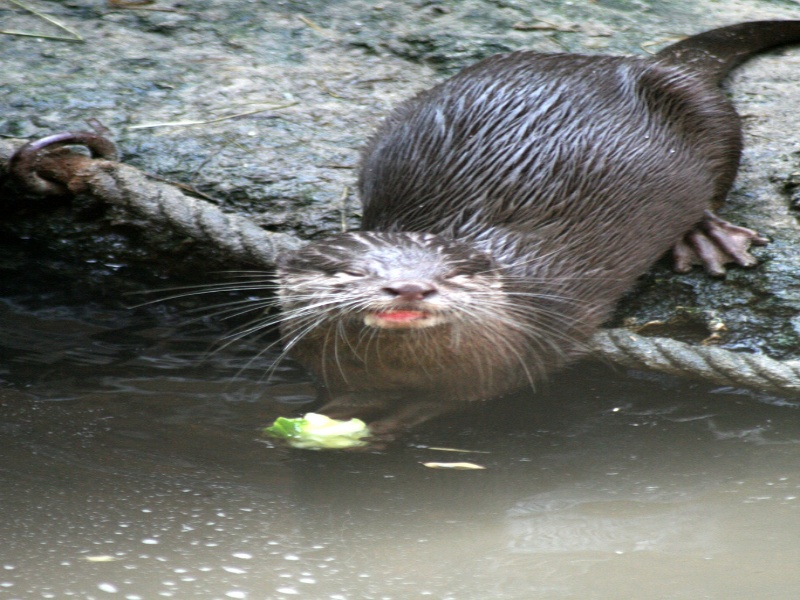minkish: (267, 18, 800, 464)
